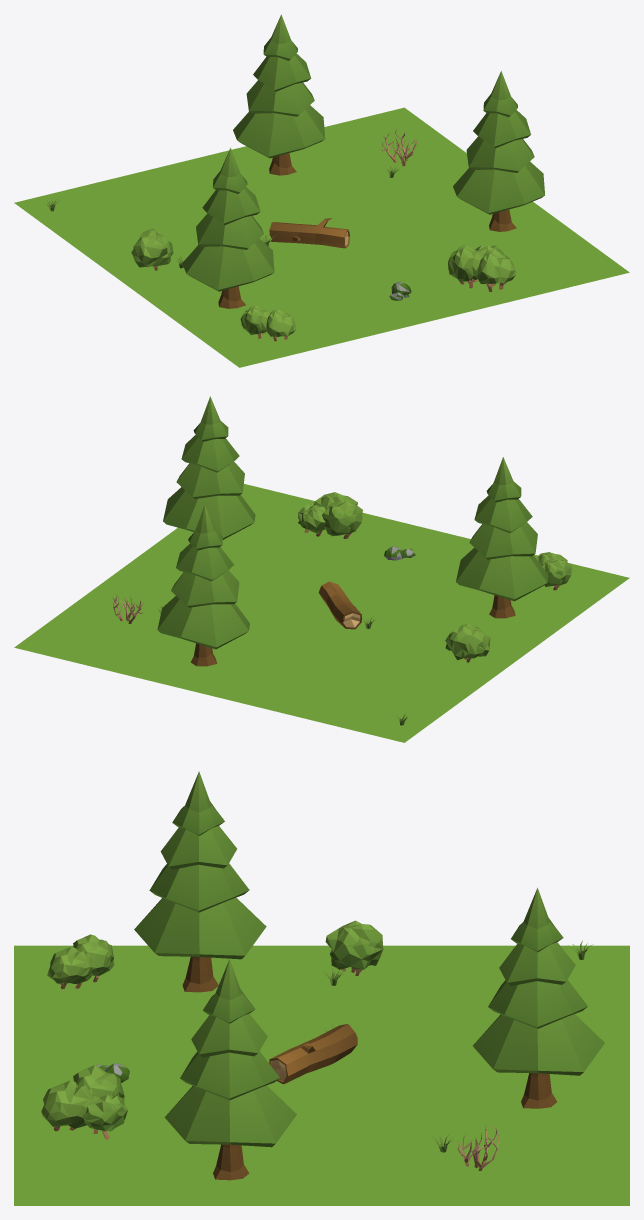
The model's file is enviroment_1.gltf.
3 renders of one model, top to bottom at view 1: azimuth 30°, elevation 25°; view 2: azimuth 150°, elevation 25°; view 3: azimuth 270°, elevation 25°, orthographic. The views are drawn at different scales.
Visible parts, largest first — view 1: SimpleGround, Tree_Spruce_small_01.002, Tree_Spruce_small_01, Tree_Spruce_small_01.001, Bush_group_big, Log_big_knotty, Bush_group_average, Bush_average; view 2: SimpleGround, Tree_Spruce_small_01, Tree_Spruce_small_01.002, Tree_Spruce_small_01.001, Bush_group_big, Bush_average, Log_big_knotty, Bush_group_average; view 3: SimpleGround, Tree_Spruce_small_01, Tree_Spruce_small_01.001, Tree_Spruce_small_01.002, Bush_group_big, Log_big_knotty, Bush_group_average, Bush_average, Bush_average_bare.
Boxes of the visible parts, box(x1,y1,x2,y2) form: SimpleGround: box(14, 107, 629, 367); Tree_Spruce_small_01.002: box(233, 14, 325, 175); Tree_Spruce_small_01: box(182, 147, 274, 308); Tree_Spruce_small_01.001: box(453, 71, 544, 231); Bush_group_big: box(448, 245, 515, 291); Log_big_knotty: box(269, 218, 349, 248); Bush_group_average: box(240, 305, 295, 341); Bush_average: box(131, 228, 173, 270); SimpleGround: box(14, 484, 629, 742); Tree_Spruce_small_01: box(456, 457, 548, 618); Tree_Spruce_small_01.002: box(157, 505, 249, 666); Tree_Spruce_small_01.001: box(163, 396, 255, 539); Bush_group_big: box(298, 492, 363, 538); Bush_average: box(445, 624, 490, 662); Log_big_knotty: box(318, 581, 361, 629); Bush_group_average: box(535, 552, 571, 590); SimpleGround: box(14, 945, 629, 1205); Tree_Spruce_small_01: box(134, 771, 266, 992); Tree_Spruce_small_01.001: box(164, 959, 296, 1180); Tree_Spruce_small_01.002: box(473, 888, 604, 1108); Bush_group_big: box(41, 1065, 127, 1139); Log_big_knotty: box(269, 1024, 357, 1084); Bush_group_average: box(47, 934, 114, 989); Bush_average: box(325, 920, 383, 975); Bush_average_bare: box(457, 1126, 499, 1170).
Size of the model in its own units: 20 by 7.68 by 20.
7 materials, 6 textured.
